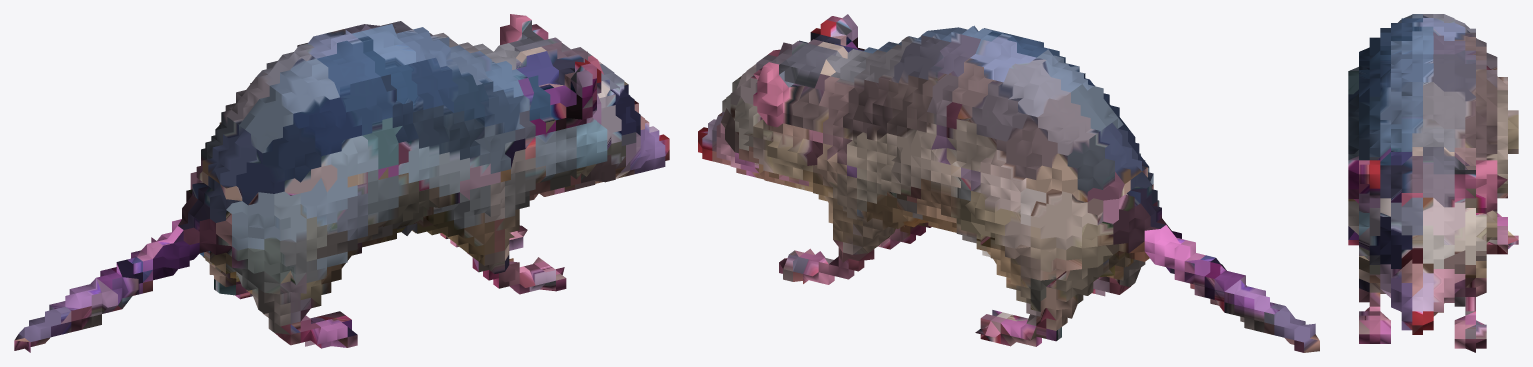
File: simplified_possum.glb
The picture shows the model from 3 angles, left to right: view 1: azimuth 30°, elevation 25°; view 2: azimuth 150°, elevation 25°; view 3: azimuth 270°, elevation 25°; orthographic projection. The views are drawn at different scales.
Parts seen in each view (by area): view 1: Mesh1; view 2: Mesh1; view 3: Mesh1.
Boxes of the visible parts, <box> form: Mesh1: <box>14,14,669,352</box>; Mesh1: <box>698,14,1319,352</box>; Mesh1: <box>1348,14,1518,352</box>.
Bounding box in the file's own units: 1.2 × 0.4762 × 0.3048.
Materials: 1 (1 with a texture image).
